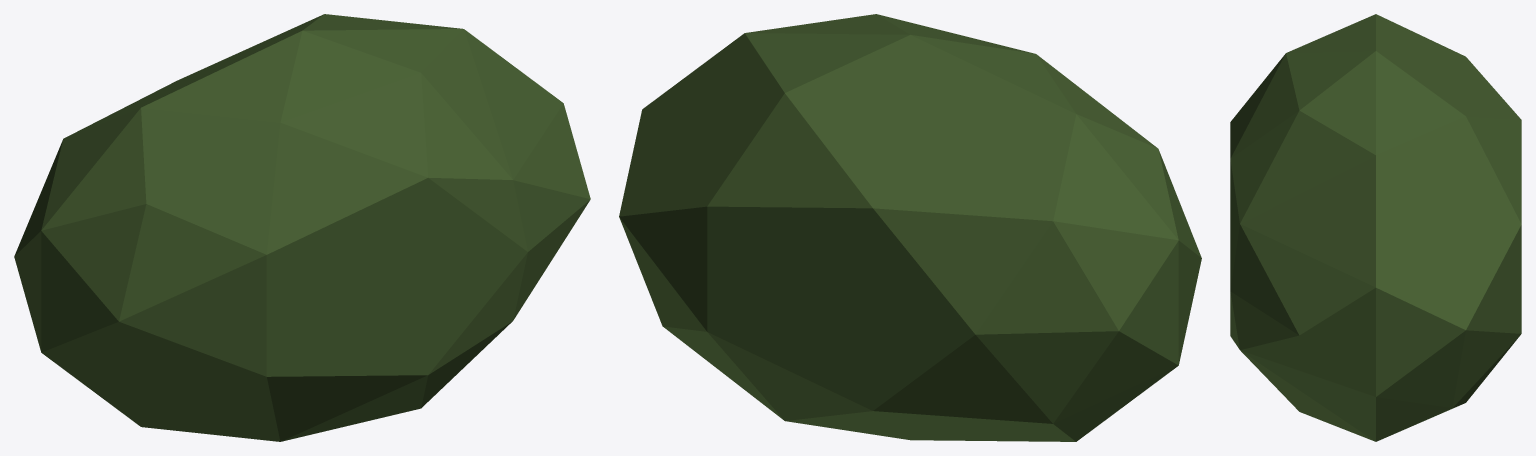
The model's file is Bush05.fbx.
3 renders of one model, left to right at view 1: azimuth 30°, elevation 25°; view 2: azimuth 150°, elevation 25°; view 3: azimuth 270°, elevation 25°, orthographic. The views are drawn at different scales.
Parts seen in each view (by area): view 1: pPlatonic1; view 2: pPlatonic1; view 3: pPlatonic1.
Part boxes in pixels (<box>): pPlatonic1: <box>14,14,590,441</box>; pPlatonic1: <box>619,14,1201,441</box>; pPlatonic1: <box>1230,14,1521,441</box>.
Size of the model in its own units: 12.99 by 6.99 by 9.38.
